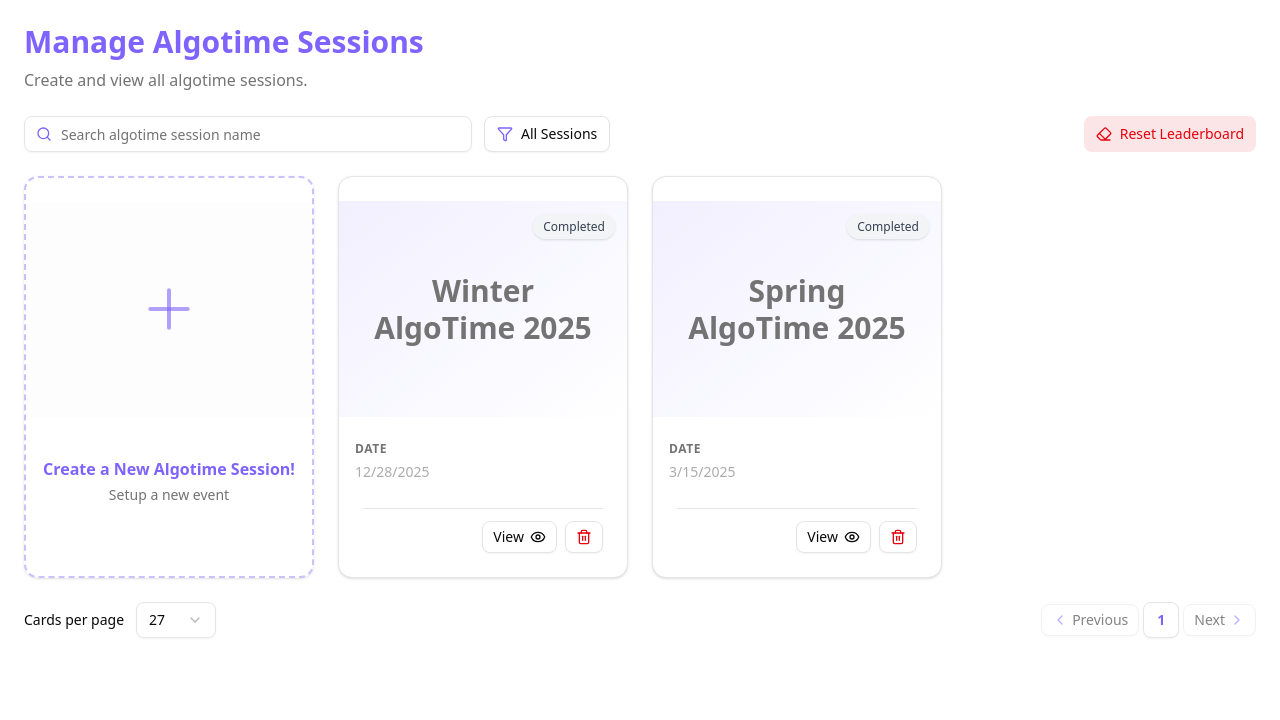
Test case: ManageAlgotimeSessionsPage › shows no sessions when filtered search returns empty
Check: the text "Winter AlgoTime 2025" is shown, box [363, 272, 603, 346]
Type "nonexistent session" into the field with placeholder "Search algotime session name". click: [248, 134]
box: [24, 116, 472, 152]
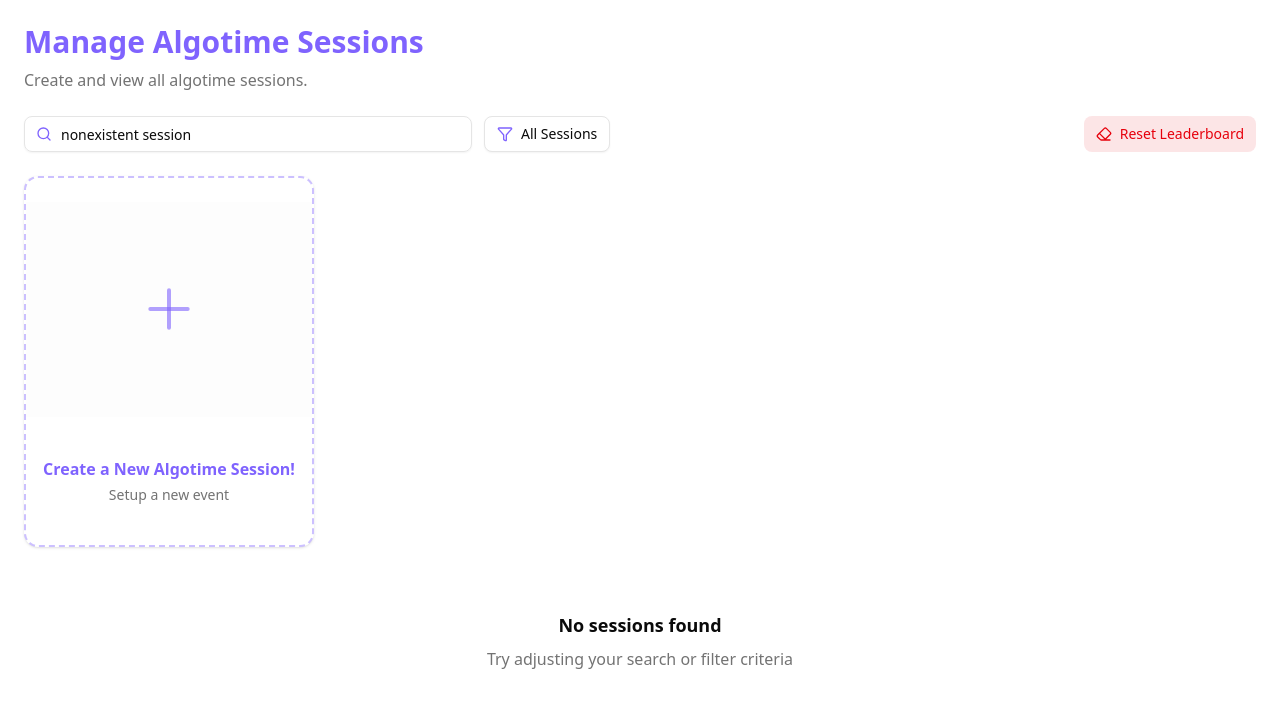
Check: the heading "No sessions found" is shown, box [558, 612, 722, 636]
